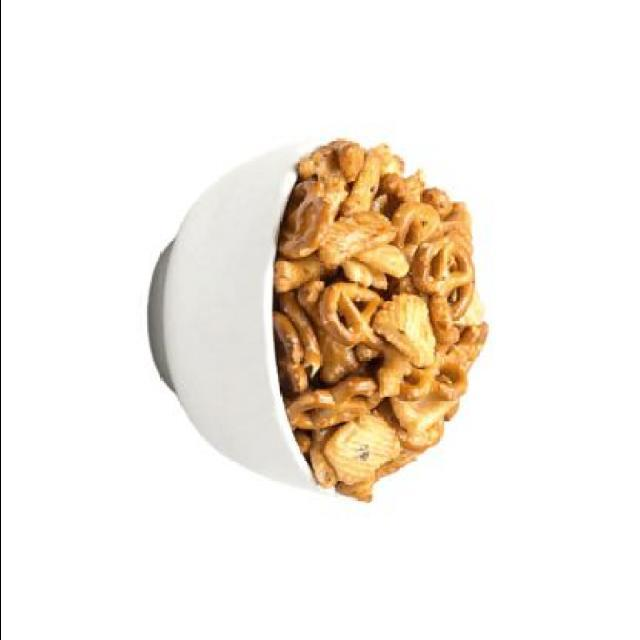Salatini packaged: (274, 132, 486, 523)
